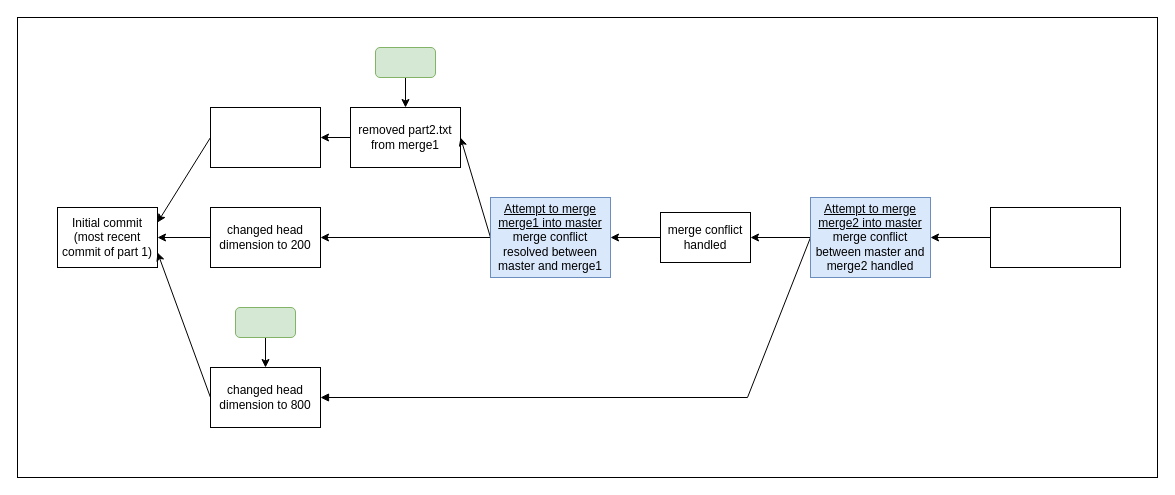
Some shapes in this 1175 by 495 pixel diagram are drawn without their labels. Each missing label, with the box of its shape:
changed head dimension to 400: (210, 106, 320, 168)
finalized part2.txt and renamed mylog.txt to part1log.txt: (990, 206, 1120, 268)
merge1: (374, 46, 436, 78)
merge2: (234, 306, 296, 338)
